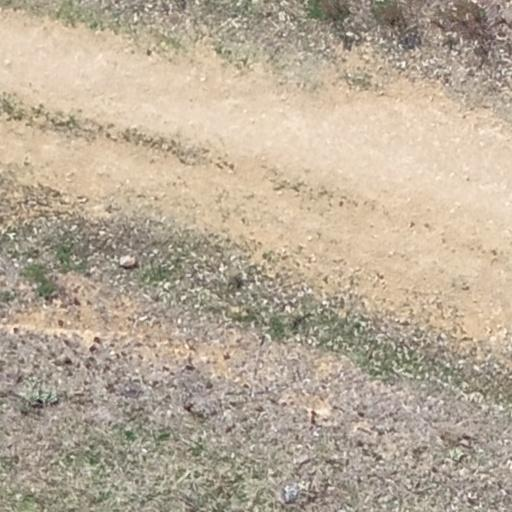stone: (280, 486, 302, 505), (117, 256, 138, 269)
